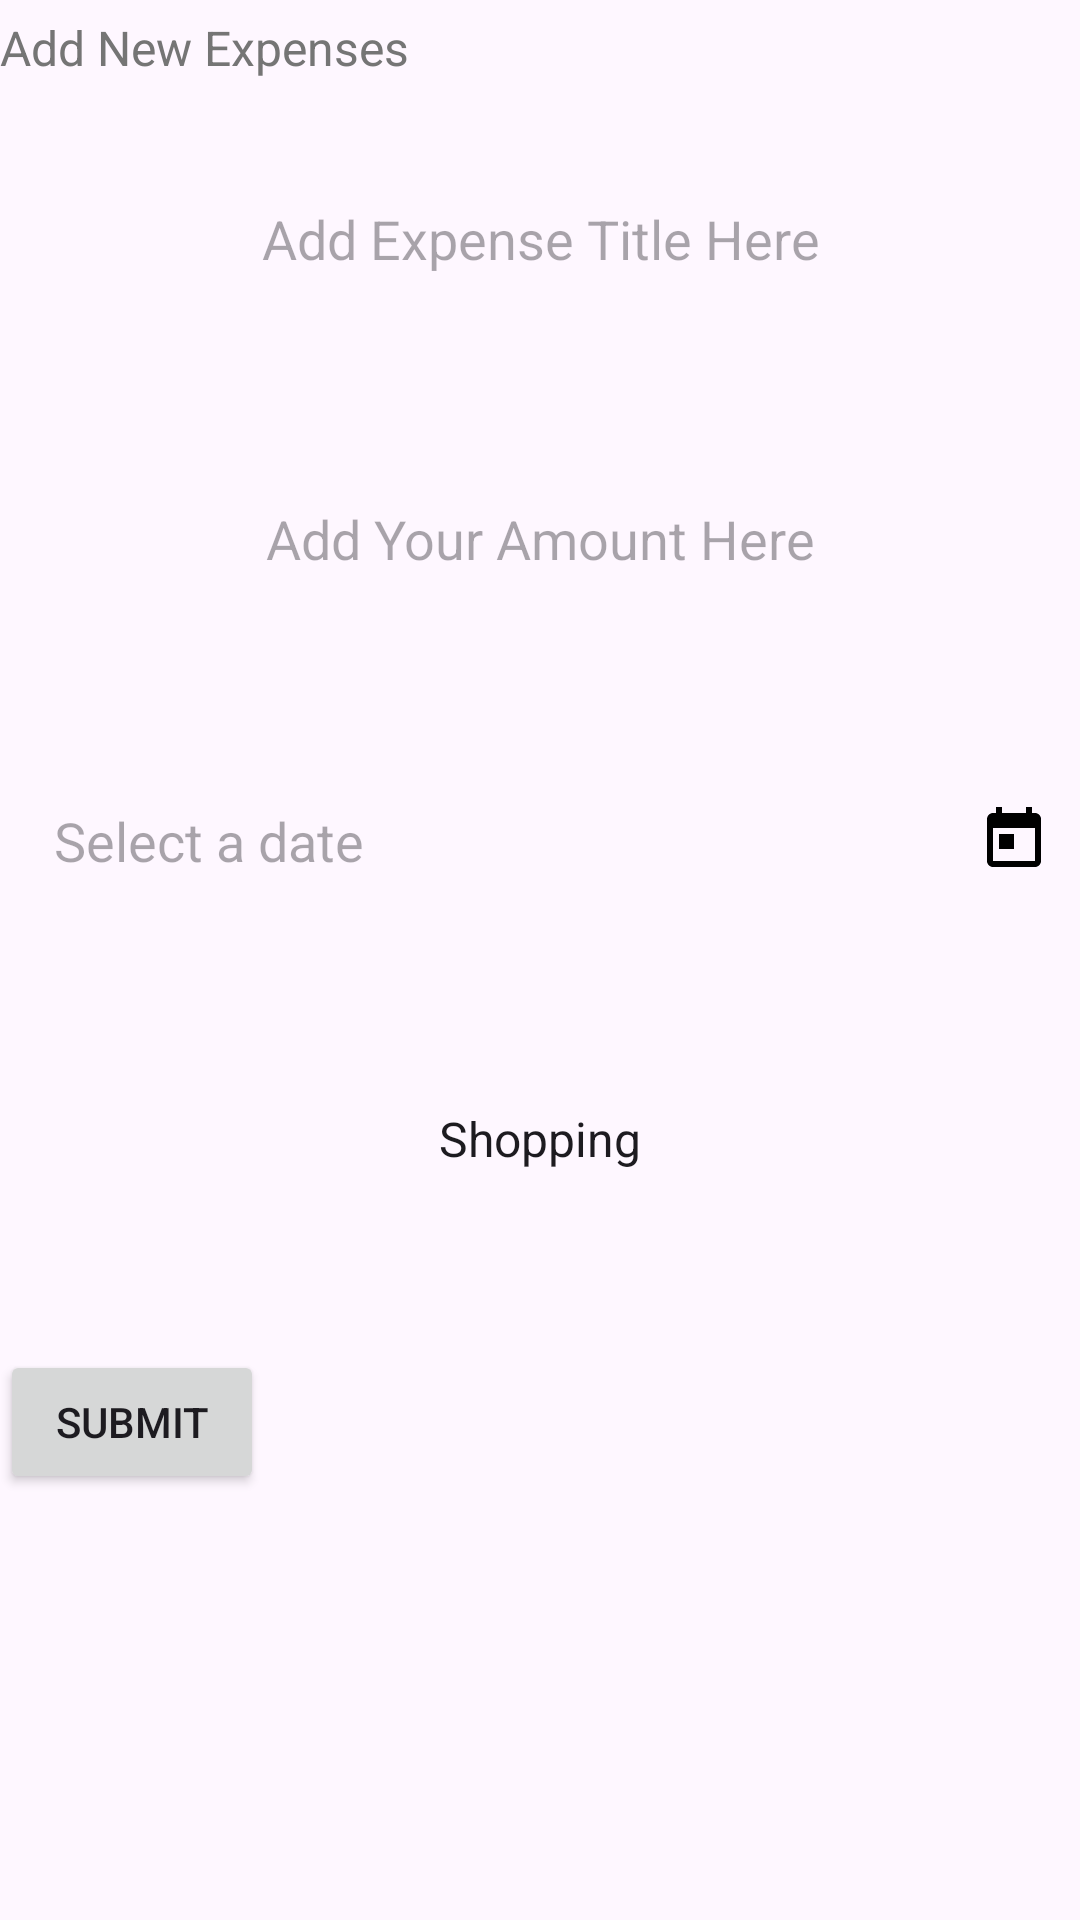

Locate icon controls on the screen. Image size 1080*1920, boxes as (x1, y1, x2, y2).
calendar: (987, 807, 1041, 867)
